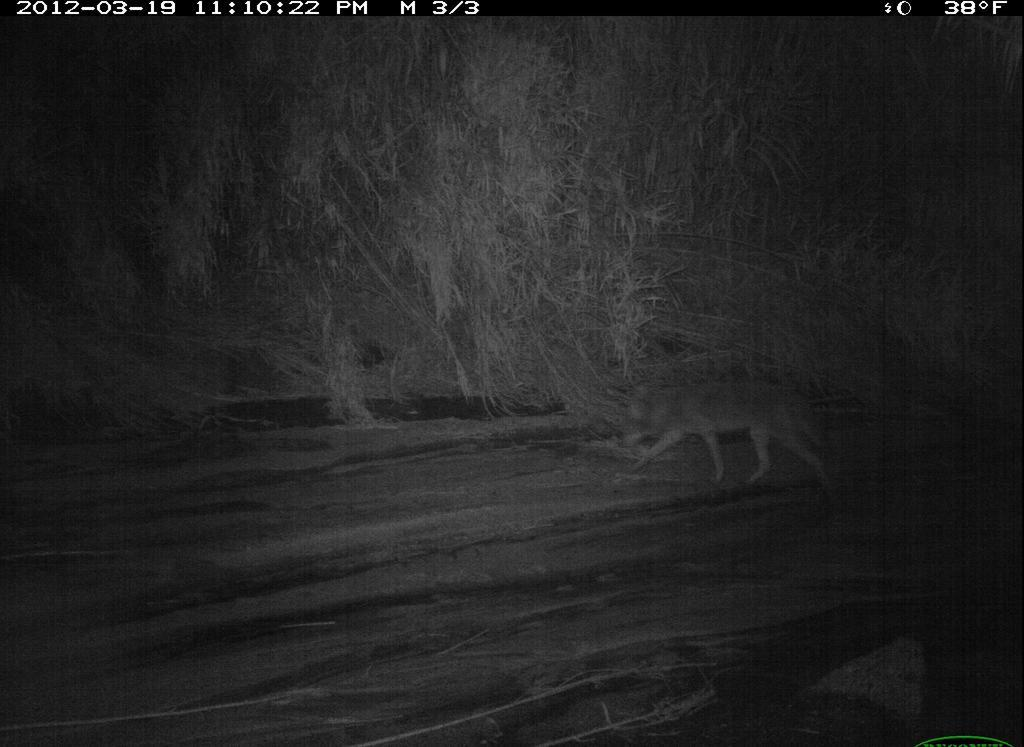coyote: (605, 376, 841, 504)
